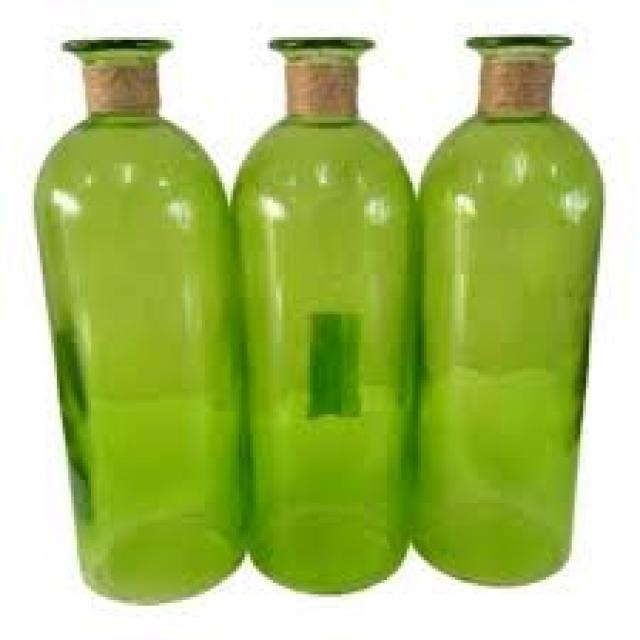Glass: (26, 27, 250, 610), (415, 31, 607, 591), (230, 32, 417, 599)
